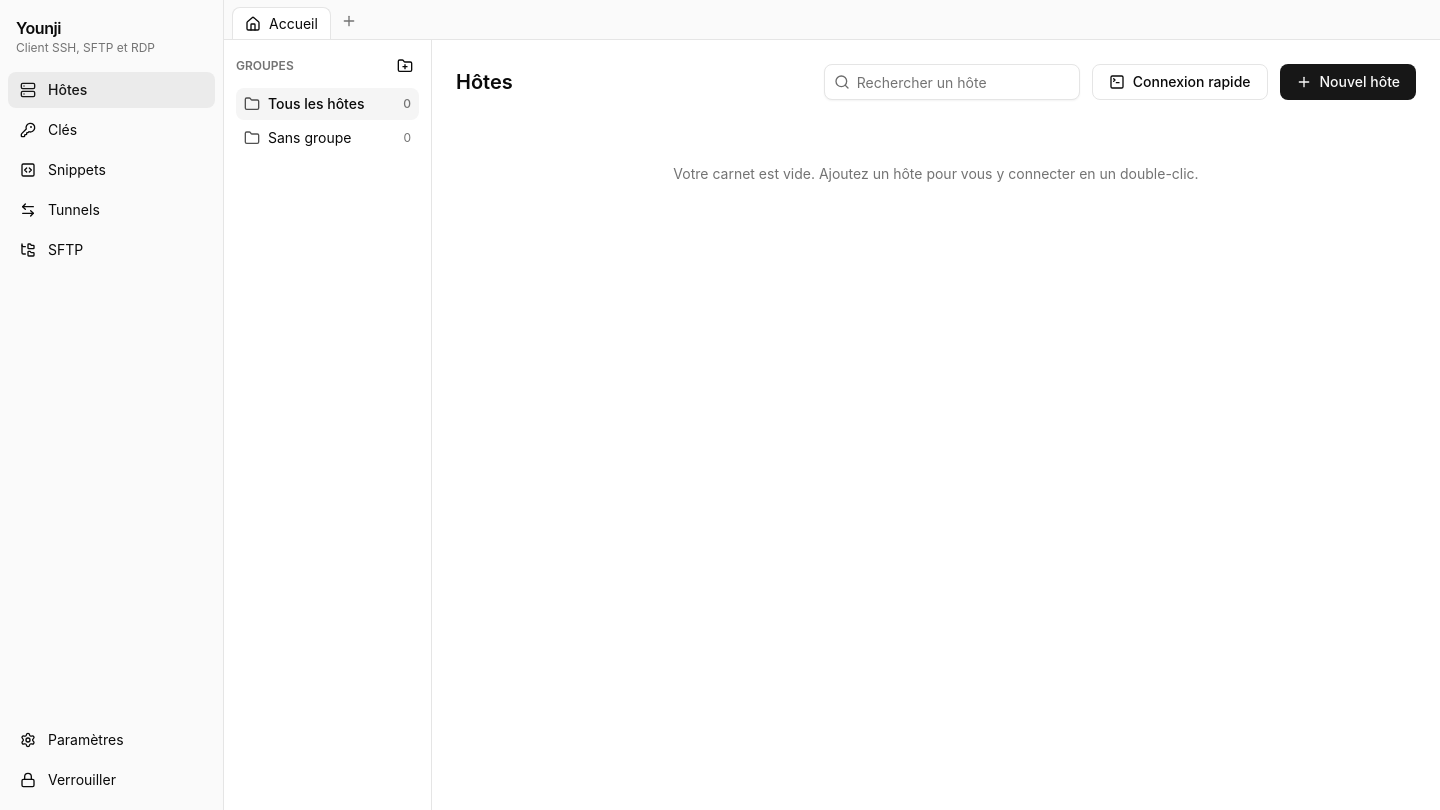
Test case: App › change de section au clic
Expected: the element showing "Accueil" is shown, x1=232 y1=7 x2=331 y2=39
Click the button "Tunnels". click: (112, 210)
box: x1=8 y1=192 x2=215 y2=228
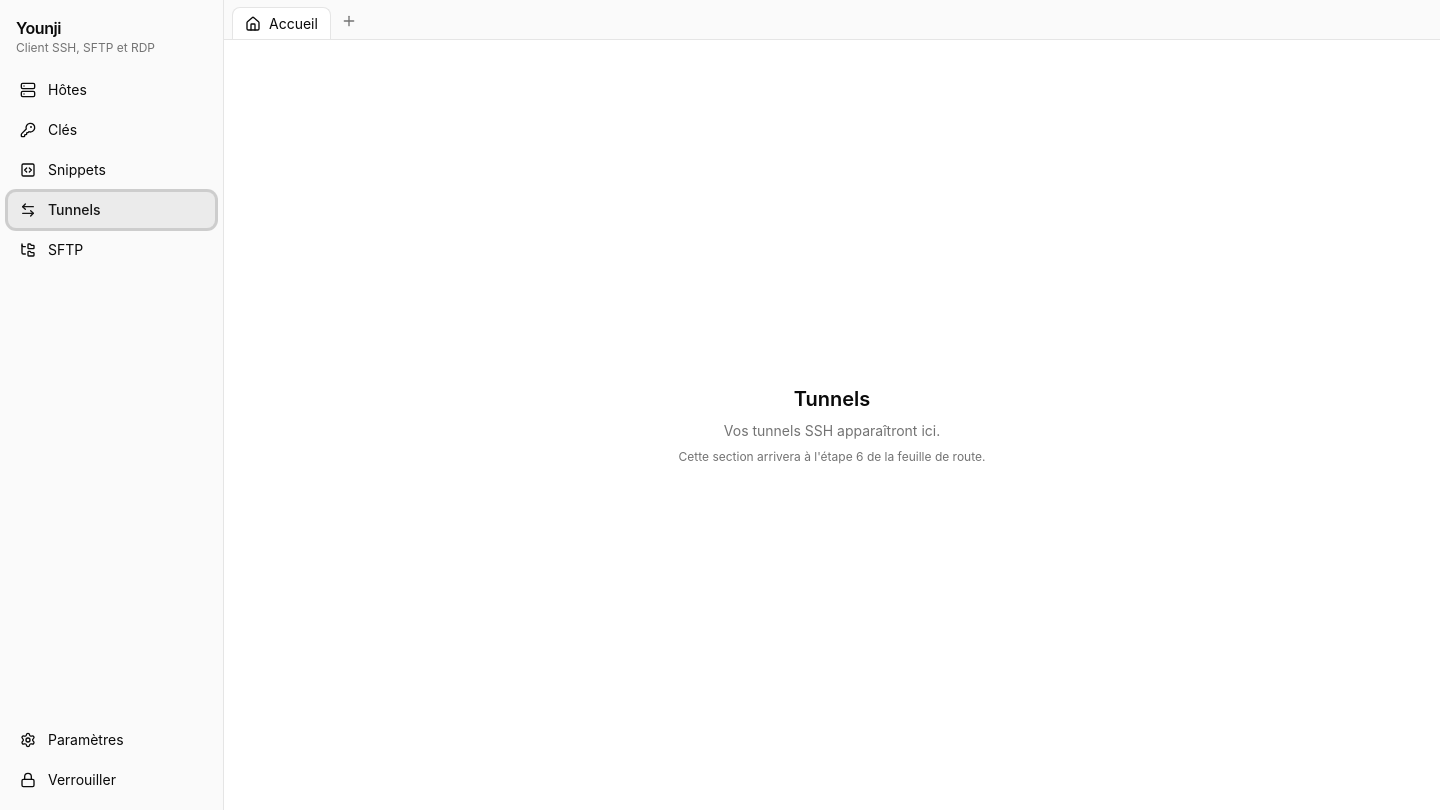
Expected: the heading "Tunnels" is shown, x1=794 y1=385 x2=870 y2=413
